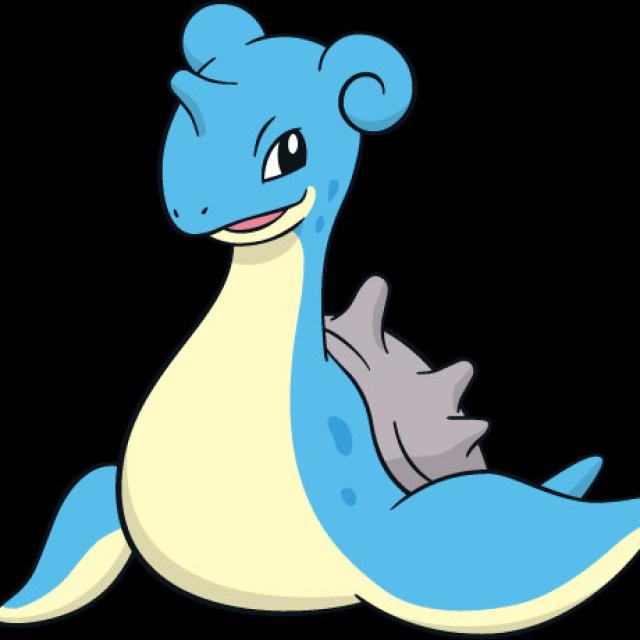Lapras: (112, 0, 496, 617)
